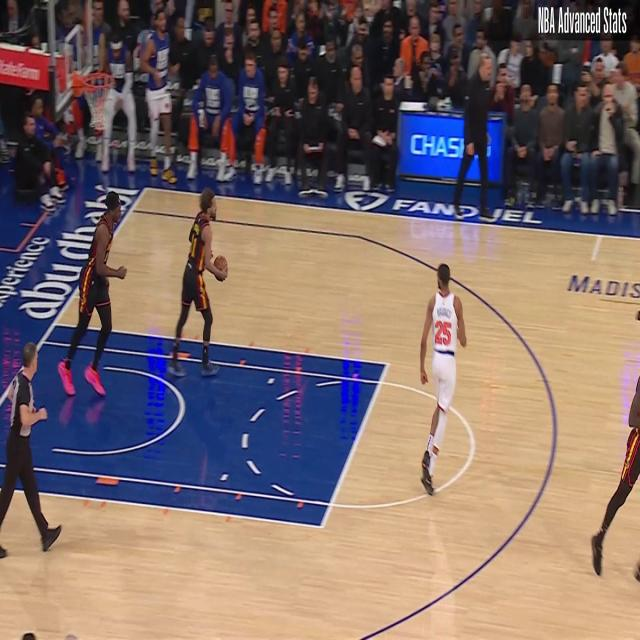ball: (210, 247, 228, 285)
judge: (0, 342, 52, 559)
player: (59, 190, 127, 397), (168, 186, 230, 380), (419, 263, 465, 489)
